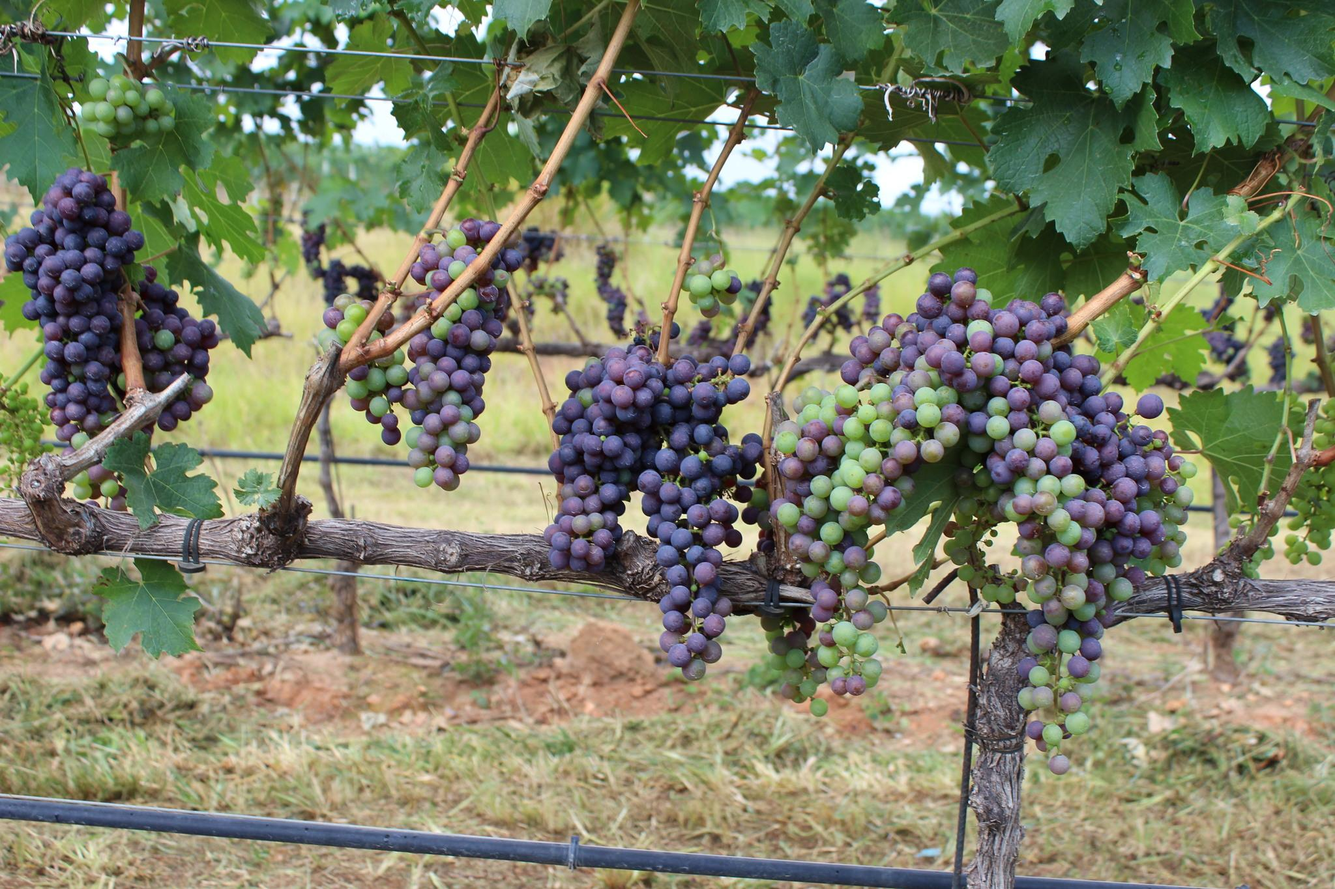Grape Ripe: (638, 342, 753, 677), (4, 167, 134, 450)
Grape Unripe: (81, 74, 175, 138)
